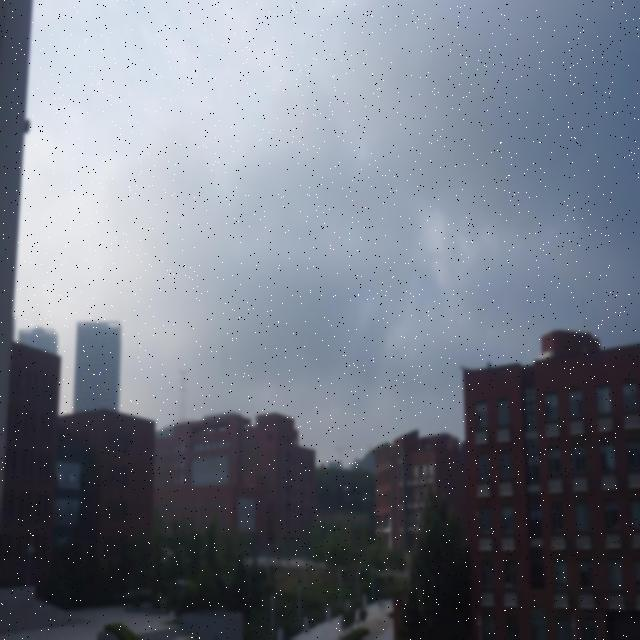UAV: (342, 487, 350, 491)
